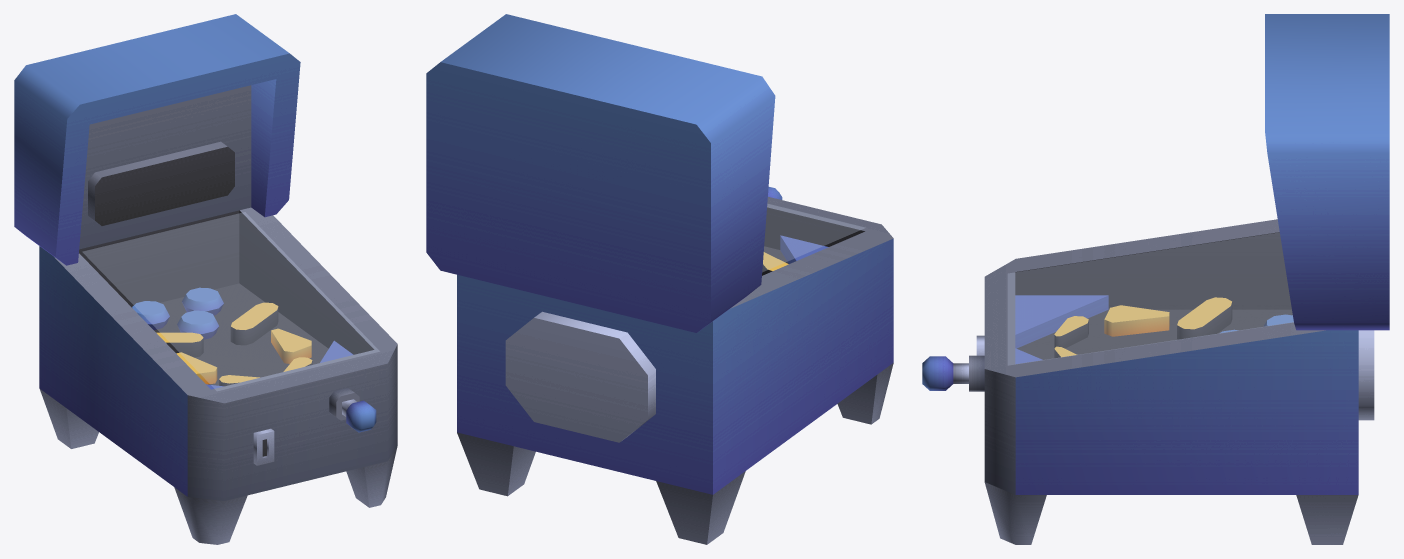
File: pinball.glb
The picture shows the model from 3 angles, left to right: view 1: azimuth 30°, elevation 25°; view 2: azimuth 150°, elevation 25°; view 3: azimuth 270°, elevation 25°; orthographic projection. The views are drawn at different scales.
Visible parts, largest first — view 1: pinball, pinball.001; view 2: pinball, pinball.001; view 3: pinball, pinball.001.
Part boxes in pixels (left/top/right/bottom): pinball: left=14, top=14, right=397, bottom=544; pinball.001: left=83, top=212, right=379, bottom=390; pinball: left=426, top=14, right=893, bottom=544; pinball.001: left=762, top=204, right=864, bottom=271; pinball: left=922, top=14, right=1389, bottom=544; pinball.001: left=1008, top=233, right=1293, bottom=365.
Size of the model in its own units: 1.5 by 2.23 by 2.25.
Materials: 2 (1 with a texture image).
